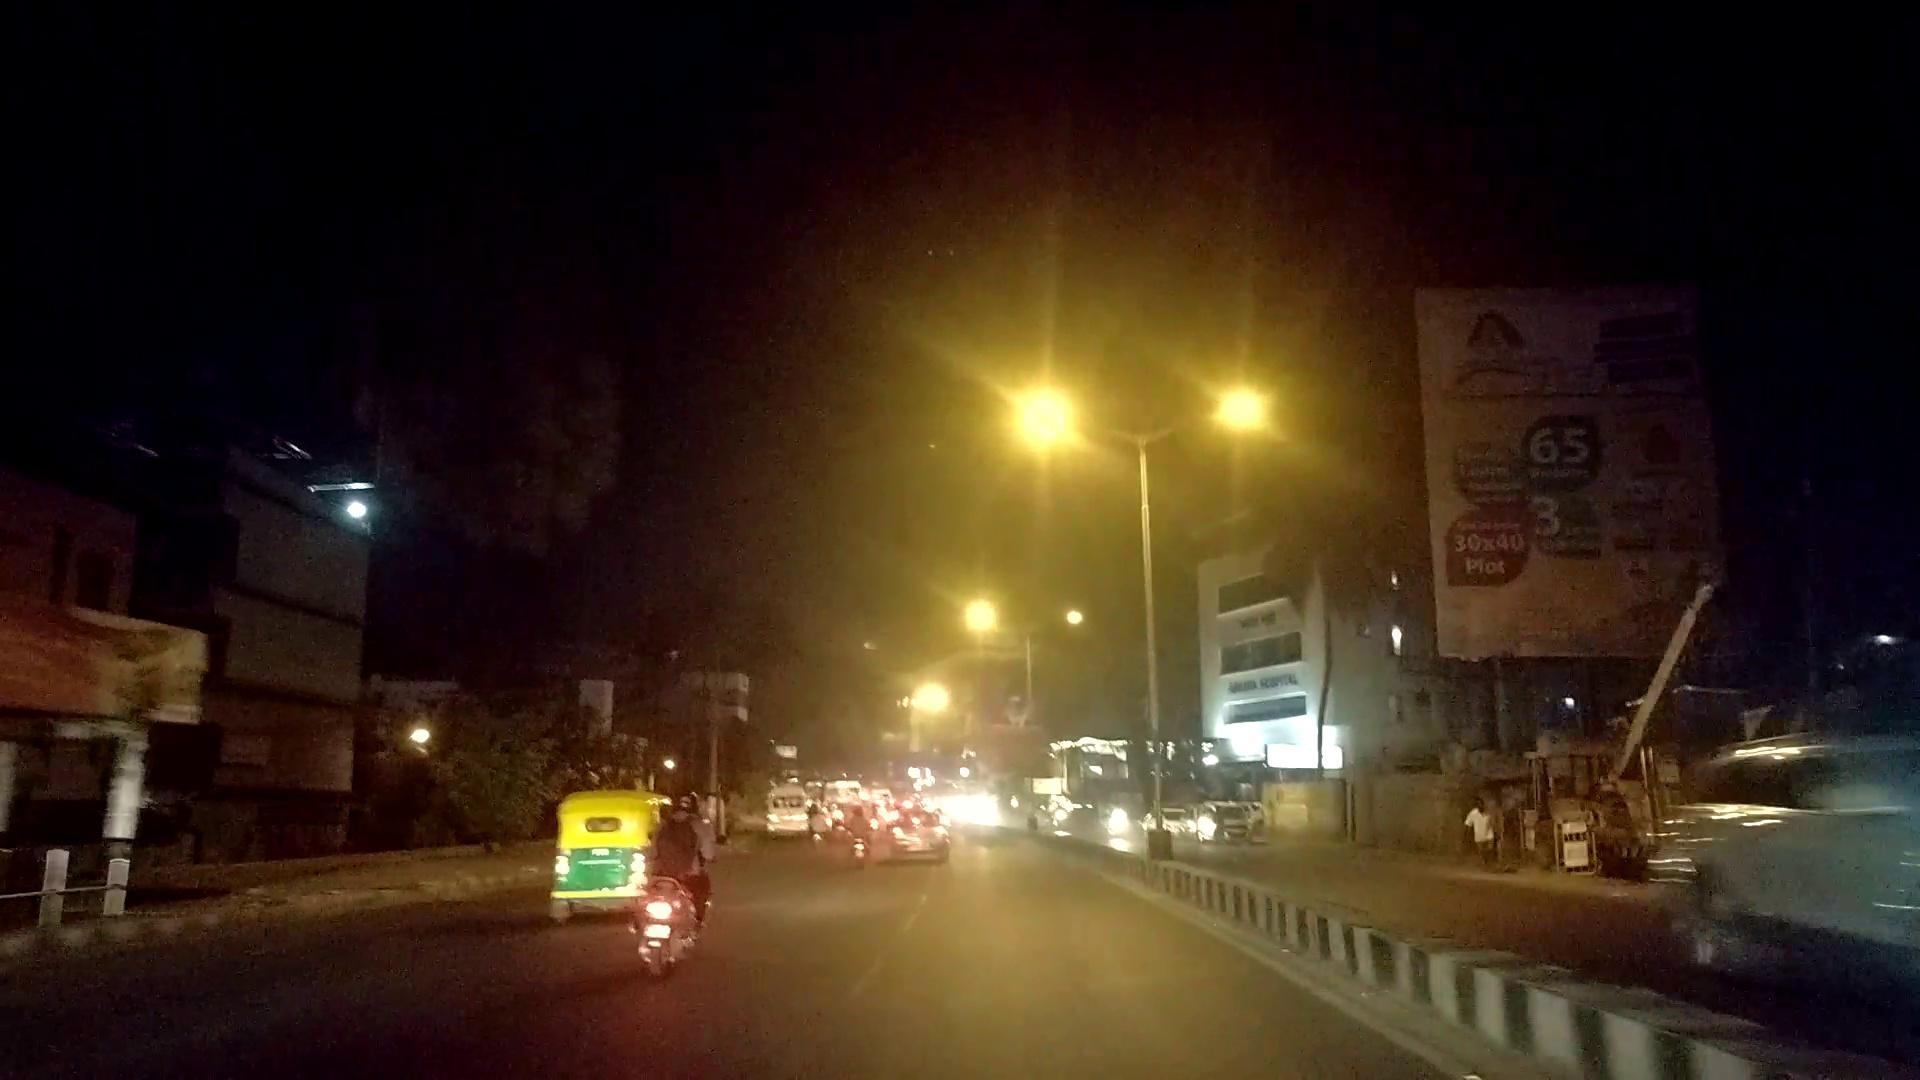on: (760, 42, 1582, 651)
